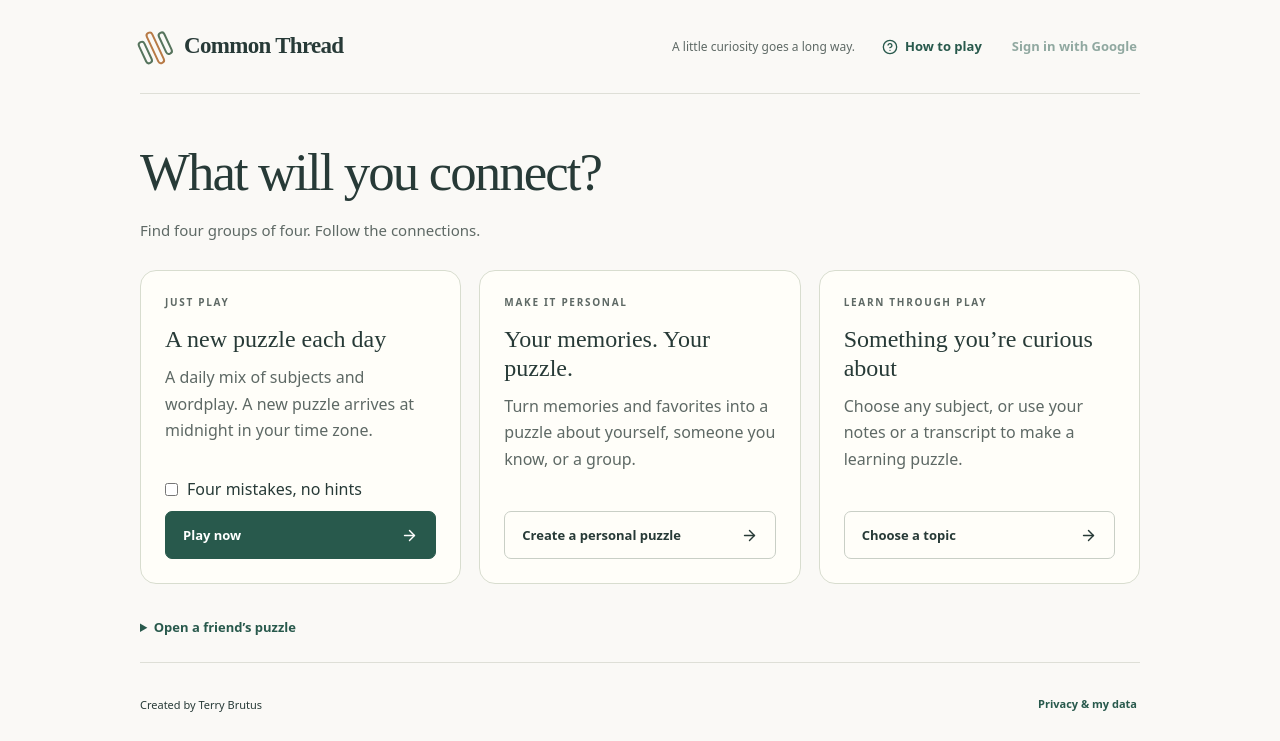
Test case: personal creator and friend challenges › shows three basic options, keeps one optional name pair tucked away, and credits the creator
The image size is (1280, 741).
Expected: the text "Created by Terry Brutus" is shown, [140,697,262,712]
Click the button "Create a personal puzzle": (640, 535) [504,511,776,559]
(page scrolled)
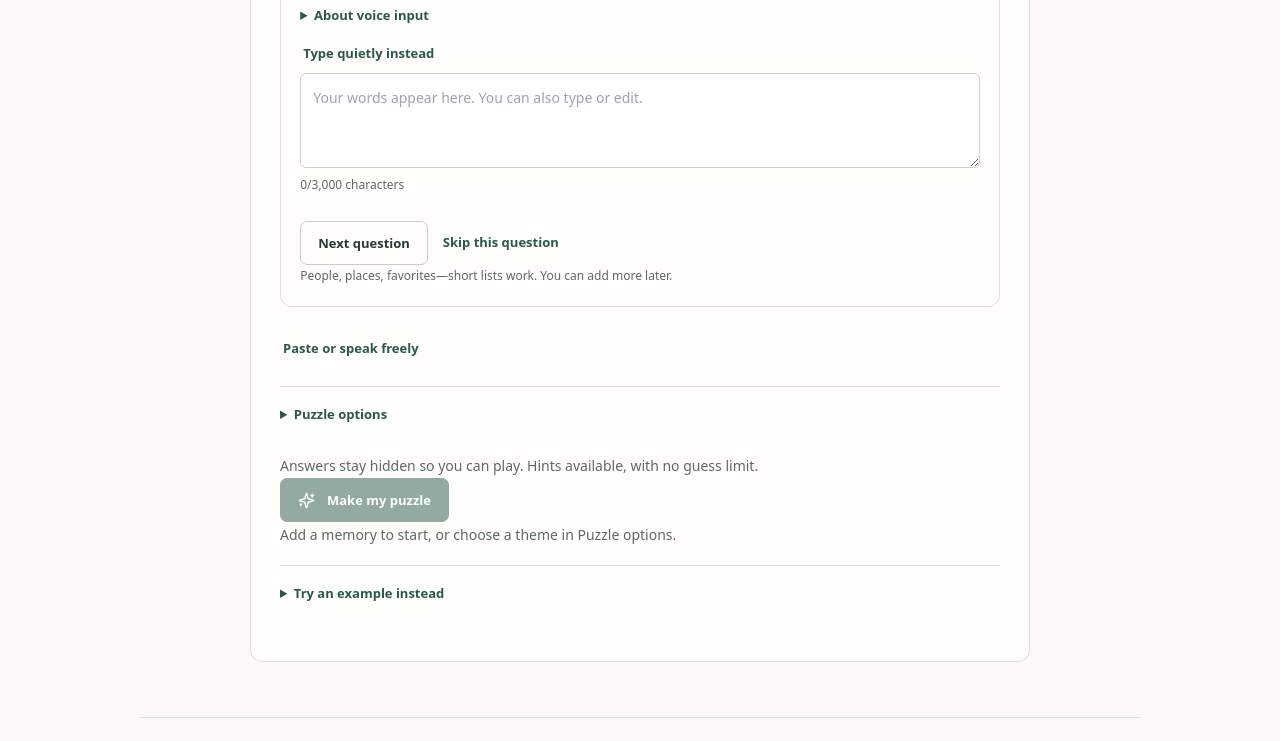
Click the heading "Puzzle options": (340, 414) [294,405,387,423]
(page scrolled)
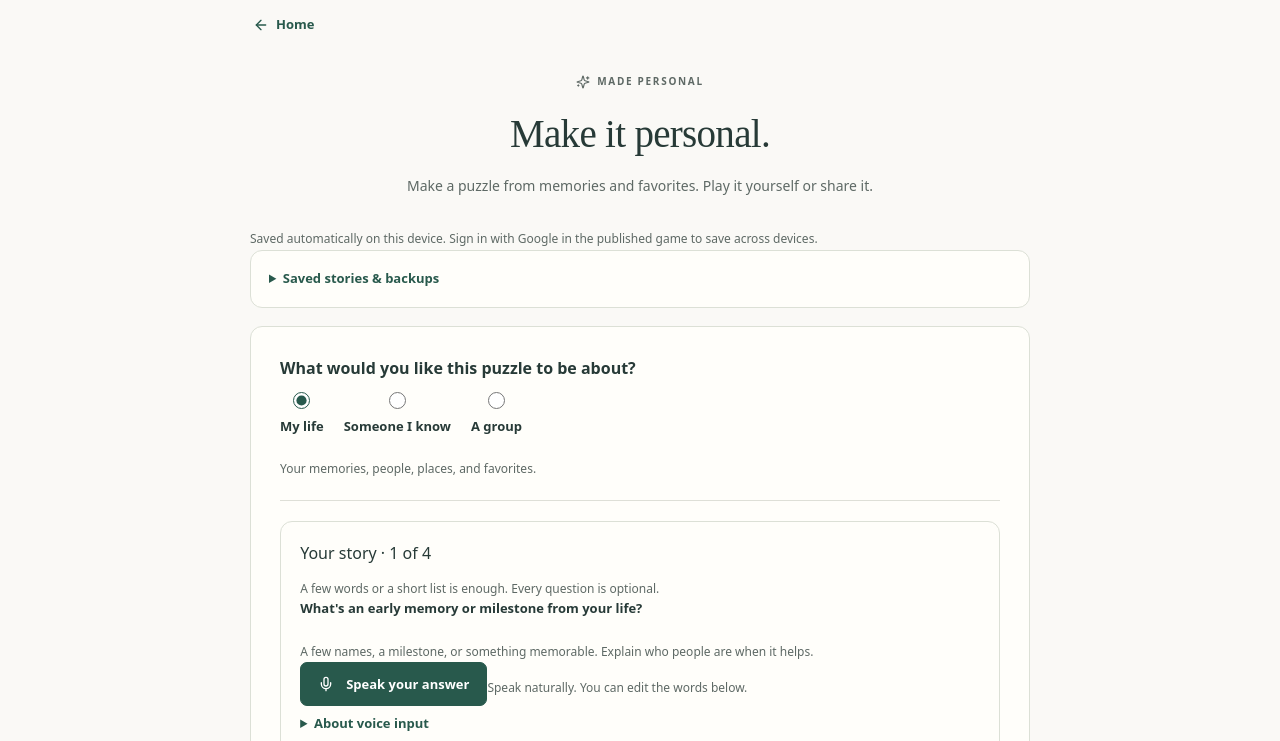
Click the radio button labelled "Someone I know": (397, 400) [389,392,406,408]
(page scrolled)
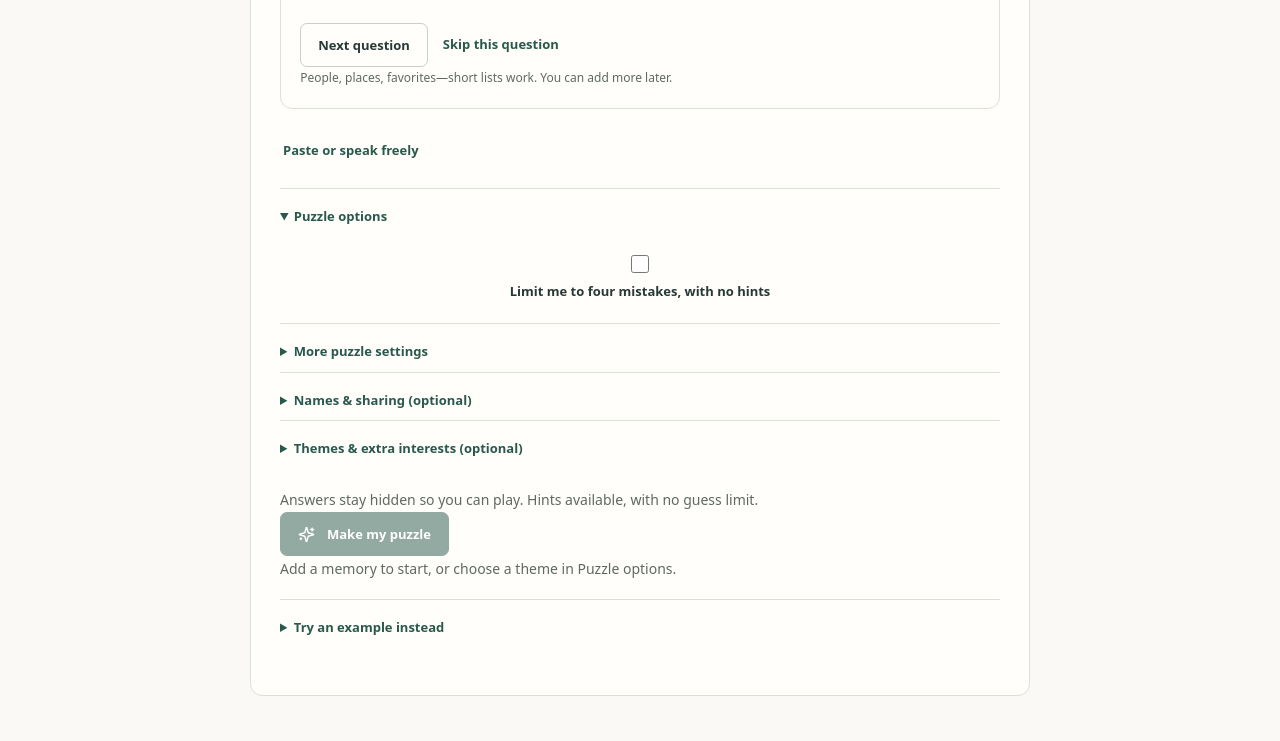
Click the heading "Names & sharing (optional)": (383, 400) [294,391,472,409]
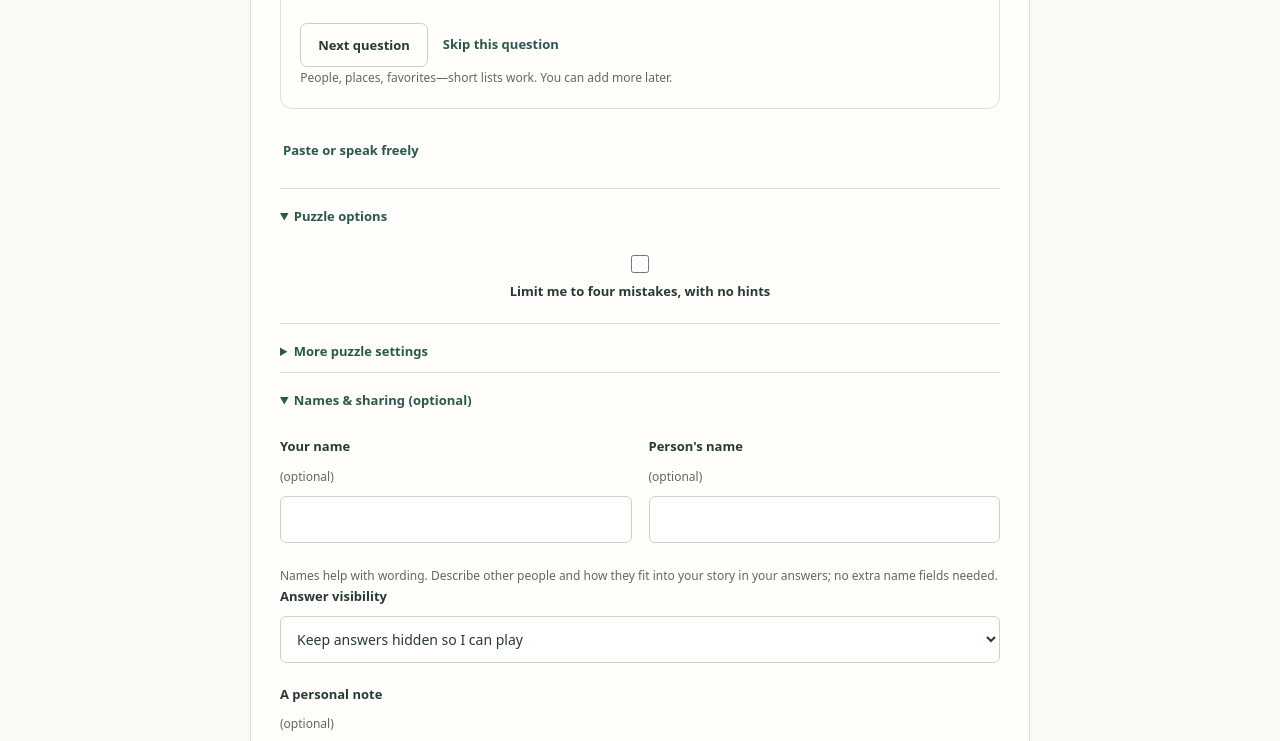
Expected: the field labelled "Your name (optional)" is shown, [280,496,632,543]
Expected: the field labelled "Person's name (optional)" is shown, [648,496,1000,543]
